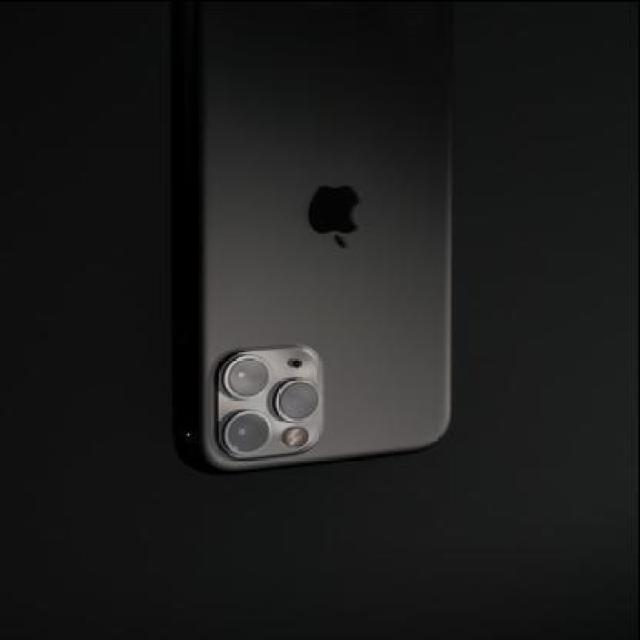mobile: (190, 3, 456, 480)
